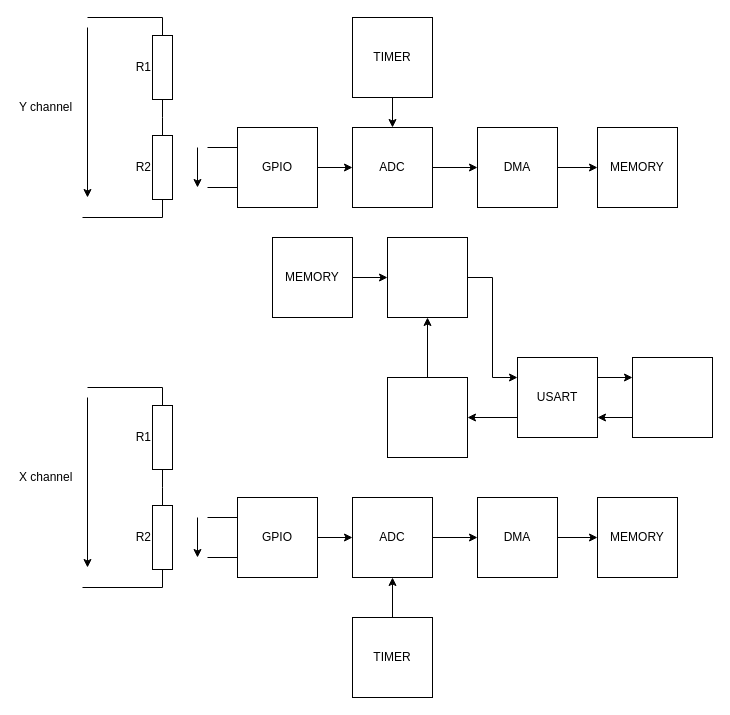
This 730x715 diagram has some shape labels left out. The shapes that lost their labels are listed below. From the top down, each one's centre as x and y in pixels, then its label:
At point 427,277: "TRANSOFRM".
At point 427,417: "TRANSFORM PARAMETERS".
At point 672,397: "JAVA GUI".
